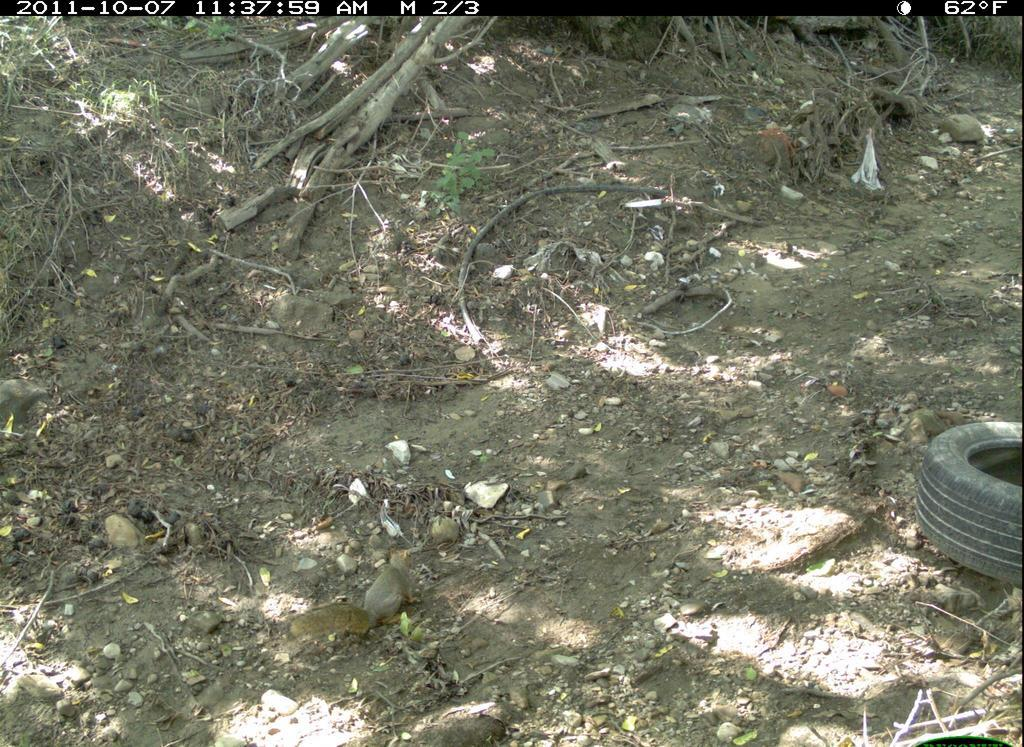squirrel: (271, 541, 434, 657)
